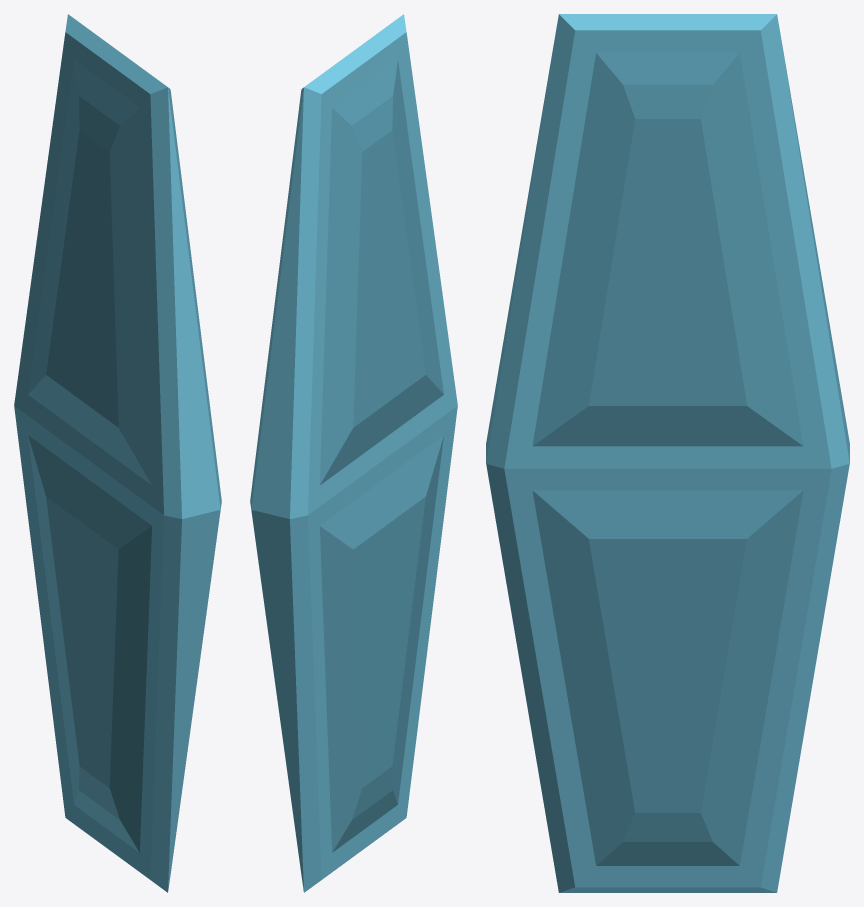
File: spacestation_structure_wing_thin_winglet_standard.glb
The picture shows the model from 3 angles, left to right: view 1: azimuth 30°, elevation 25°; view 2: azimuth 150°, elevation 25°; view 3: azimuth 270°, elevation 25°; orthographic projection. The views are drawn at different scales.
Bounding box in the file's own units: 0.185 × 2 × 0.75.
